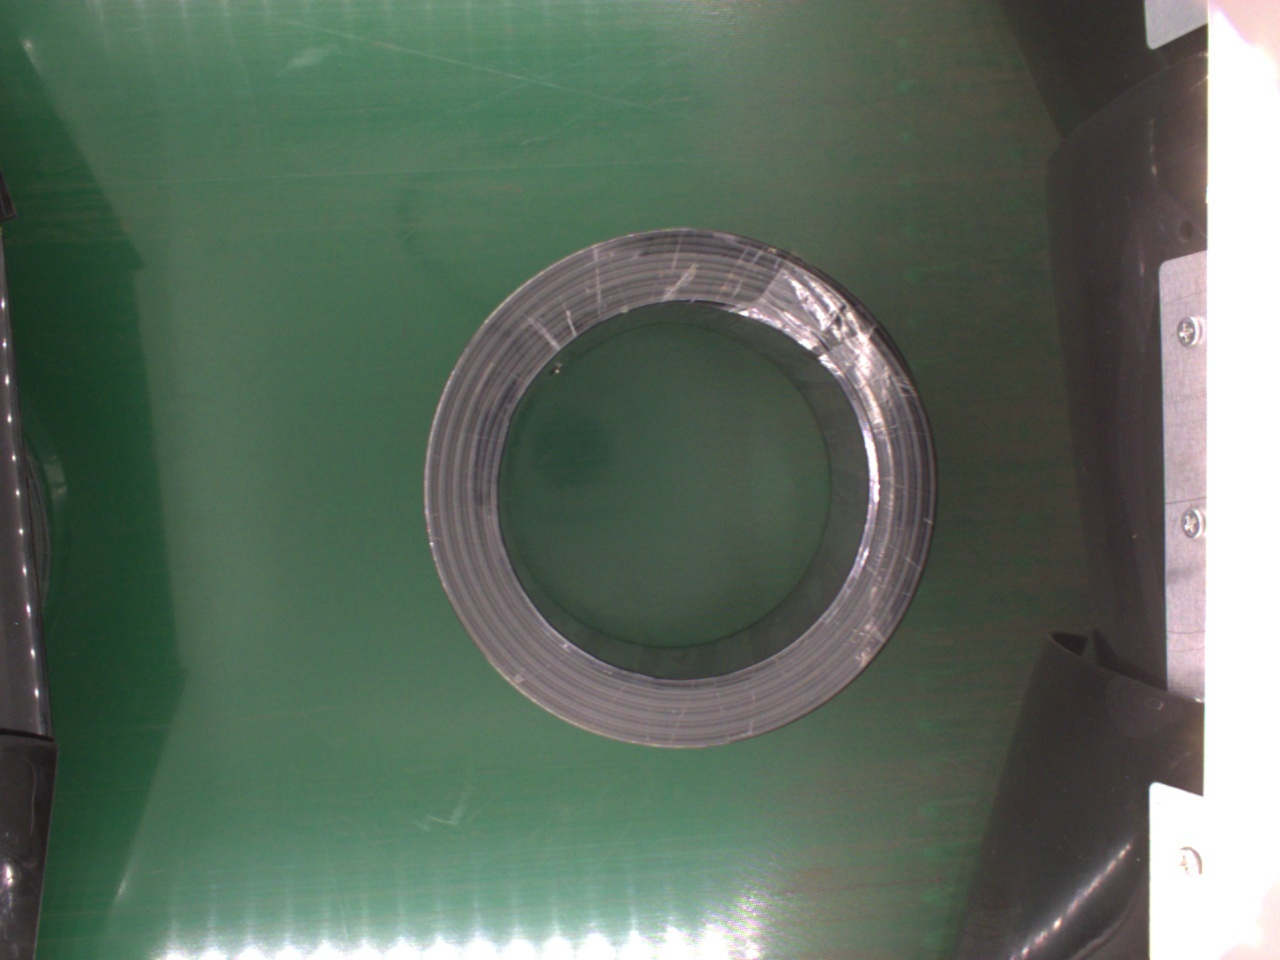black: (420, 224, 938, 755)
